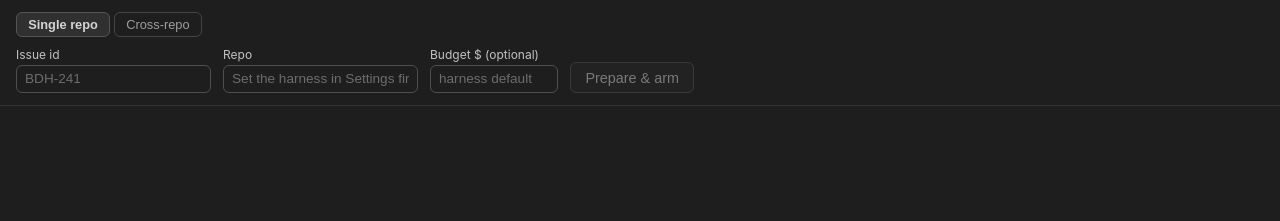
Test: preparing and arming a run from the app › a prepare refusal is shown in full and nothing is armed
In the field with placeholder "BDH-241": (114, 79) [16, 65, 211, 93], type "BDH-1"
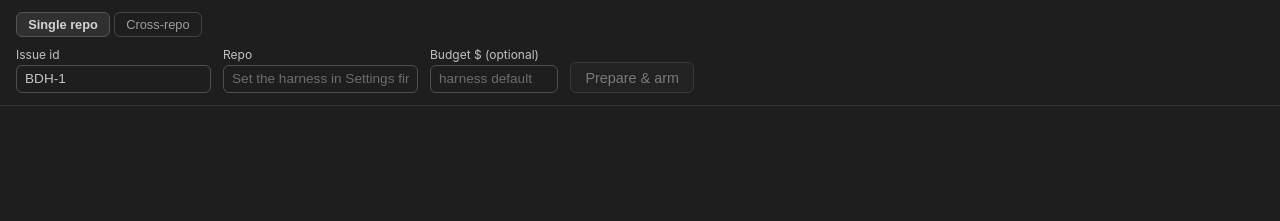
In the field with placeholder "Set the harness in Settings first": (320, 79) [223, 65, 418, 93], type "Bodhilander"
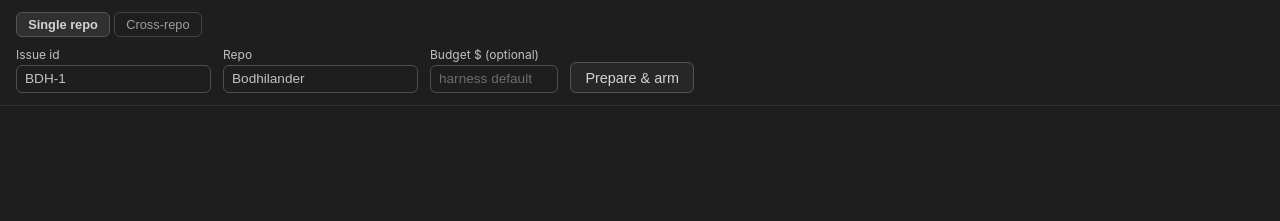
Click the button "Prepare & arm": (632, 78) [570, 62, 694, 93]
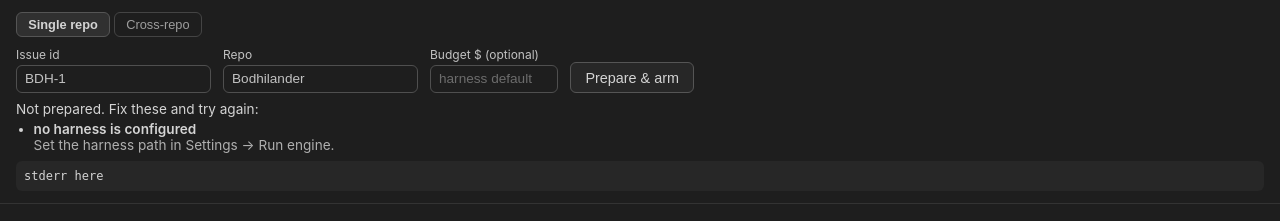
Expected: the text "no harness is configured" is shown, [34, 121, 196, 137]
Expected: the text "Set the harness path in Settings → Run engine." is shown, [34, 137, 334, 153]
Expected: the text "stderr here" is shown, [16, 161, 1264, 191]
